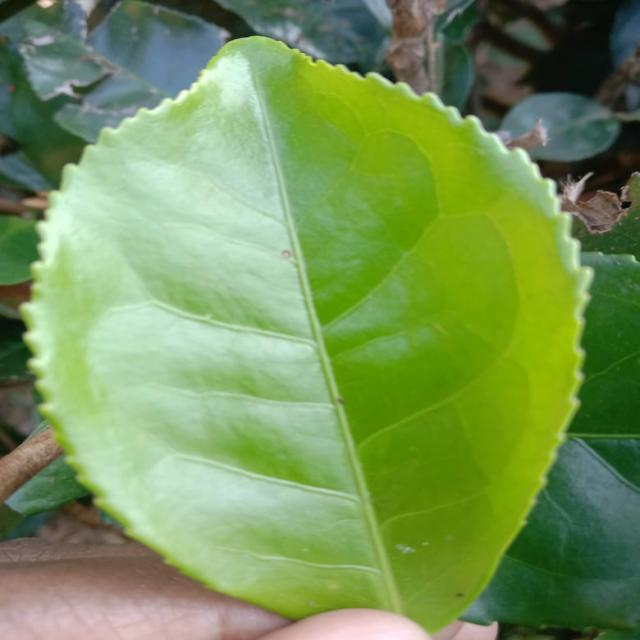Category B 2-4 days: (16, 26, 595, 630)
